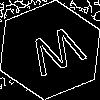W: (25, 25, 92, 86)
